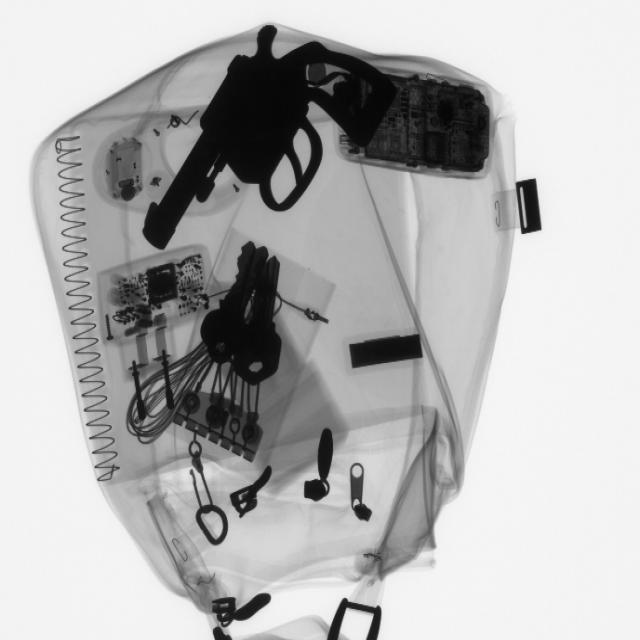GUN: (148, 25, 396, 261)
